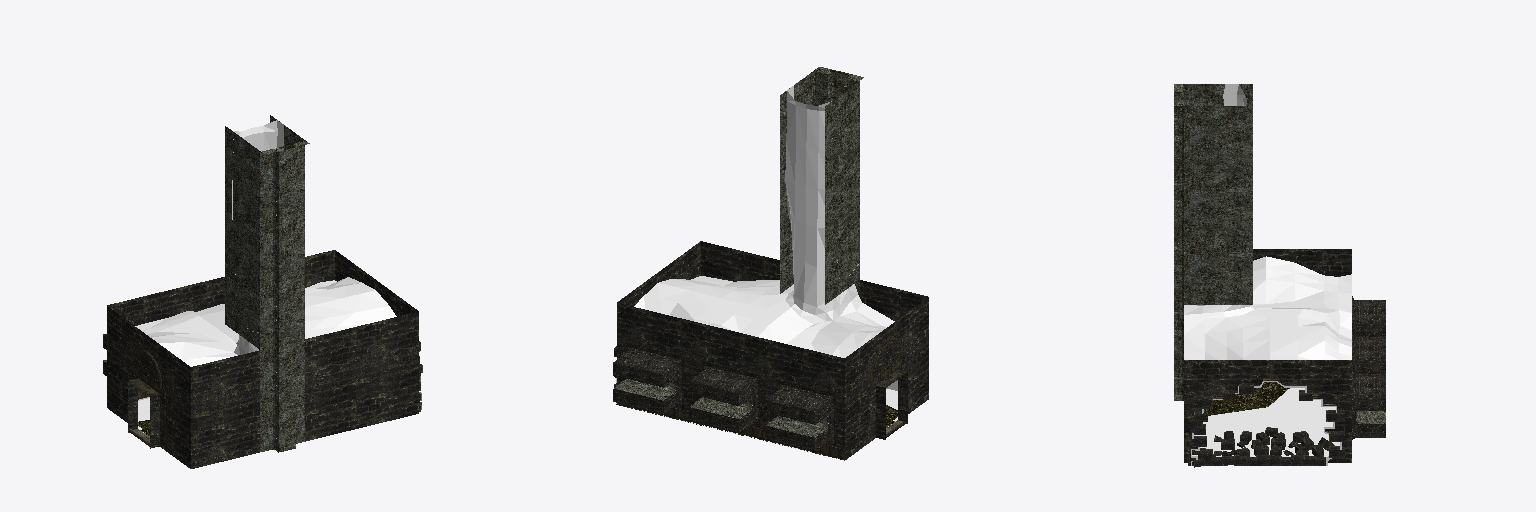
The picture shows the model from 3 angles: view 1: azimuth 30°, elevation 25°; view 2: azimuth 150°, elevation 25°; view 3: azimuth 270°, elevation 25°; orthographic projection.
Parts seen in each view (by area): view 1: mesh10, mesh8, mesh2, mesh9, mesh11, mesh13; view 2: mesh10, mesh2, mesh8, mesh1, mesh11, mesh0, mesh9; view 3: mesh8, mesh10, mesh2, mesh1, mesh11, mesh15, mesh13, mesh14.
Part boxes in pixels (bbox=[...]): mesh10: bbox=[107, 250, 422, 468]; mesh8: bbox=[225, 115, 309, 452]; mesh2: bbox=[135, 277, 396, 366]; mesh9: bbox=[129, 343, 165, 399]; mesh11: bbox=[138, 123, 346, 431]; mesh13: bbox=[143, 120, 421, 435]; mesh10: bbox=[614, 241, 928, 459]; mesh2: bbox=[634, 276, 894, 357]; mesh8: bbox=[780, 67, 863, 304]; mesh1: bbox=[613, 343, 835, 450]; mesh11: bbox=[785, 91, 897, 409]; mesh0: bbox=[614, 379, 828, 437]; mesh9: bbox=[616, 335, 906, 460]; mesh8: bbox=[1174, 84, 1252, 400]; mesh10: bbox=[1184, 249, 1351, 467]; mesh2: bbox=[1184, 256, 1351, 359]; mesh1: bbox=[1352, 296, 1385, 439]; mesh11: bbox=[1184, 90, 1316, 456]; mesh15: bbox=[1204, 382, 1289, 415]; mesh13: bbox=[1191, 84, 1341, 465]; mesh14: bbox=[1301, 400, 1339, 456].
Bounding box in the file's own units: 9.83 × 11.58 × 7.3.
16 materials, 6 textured.